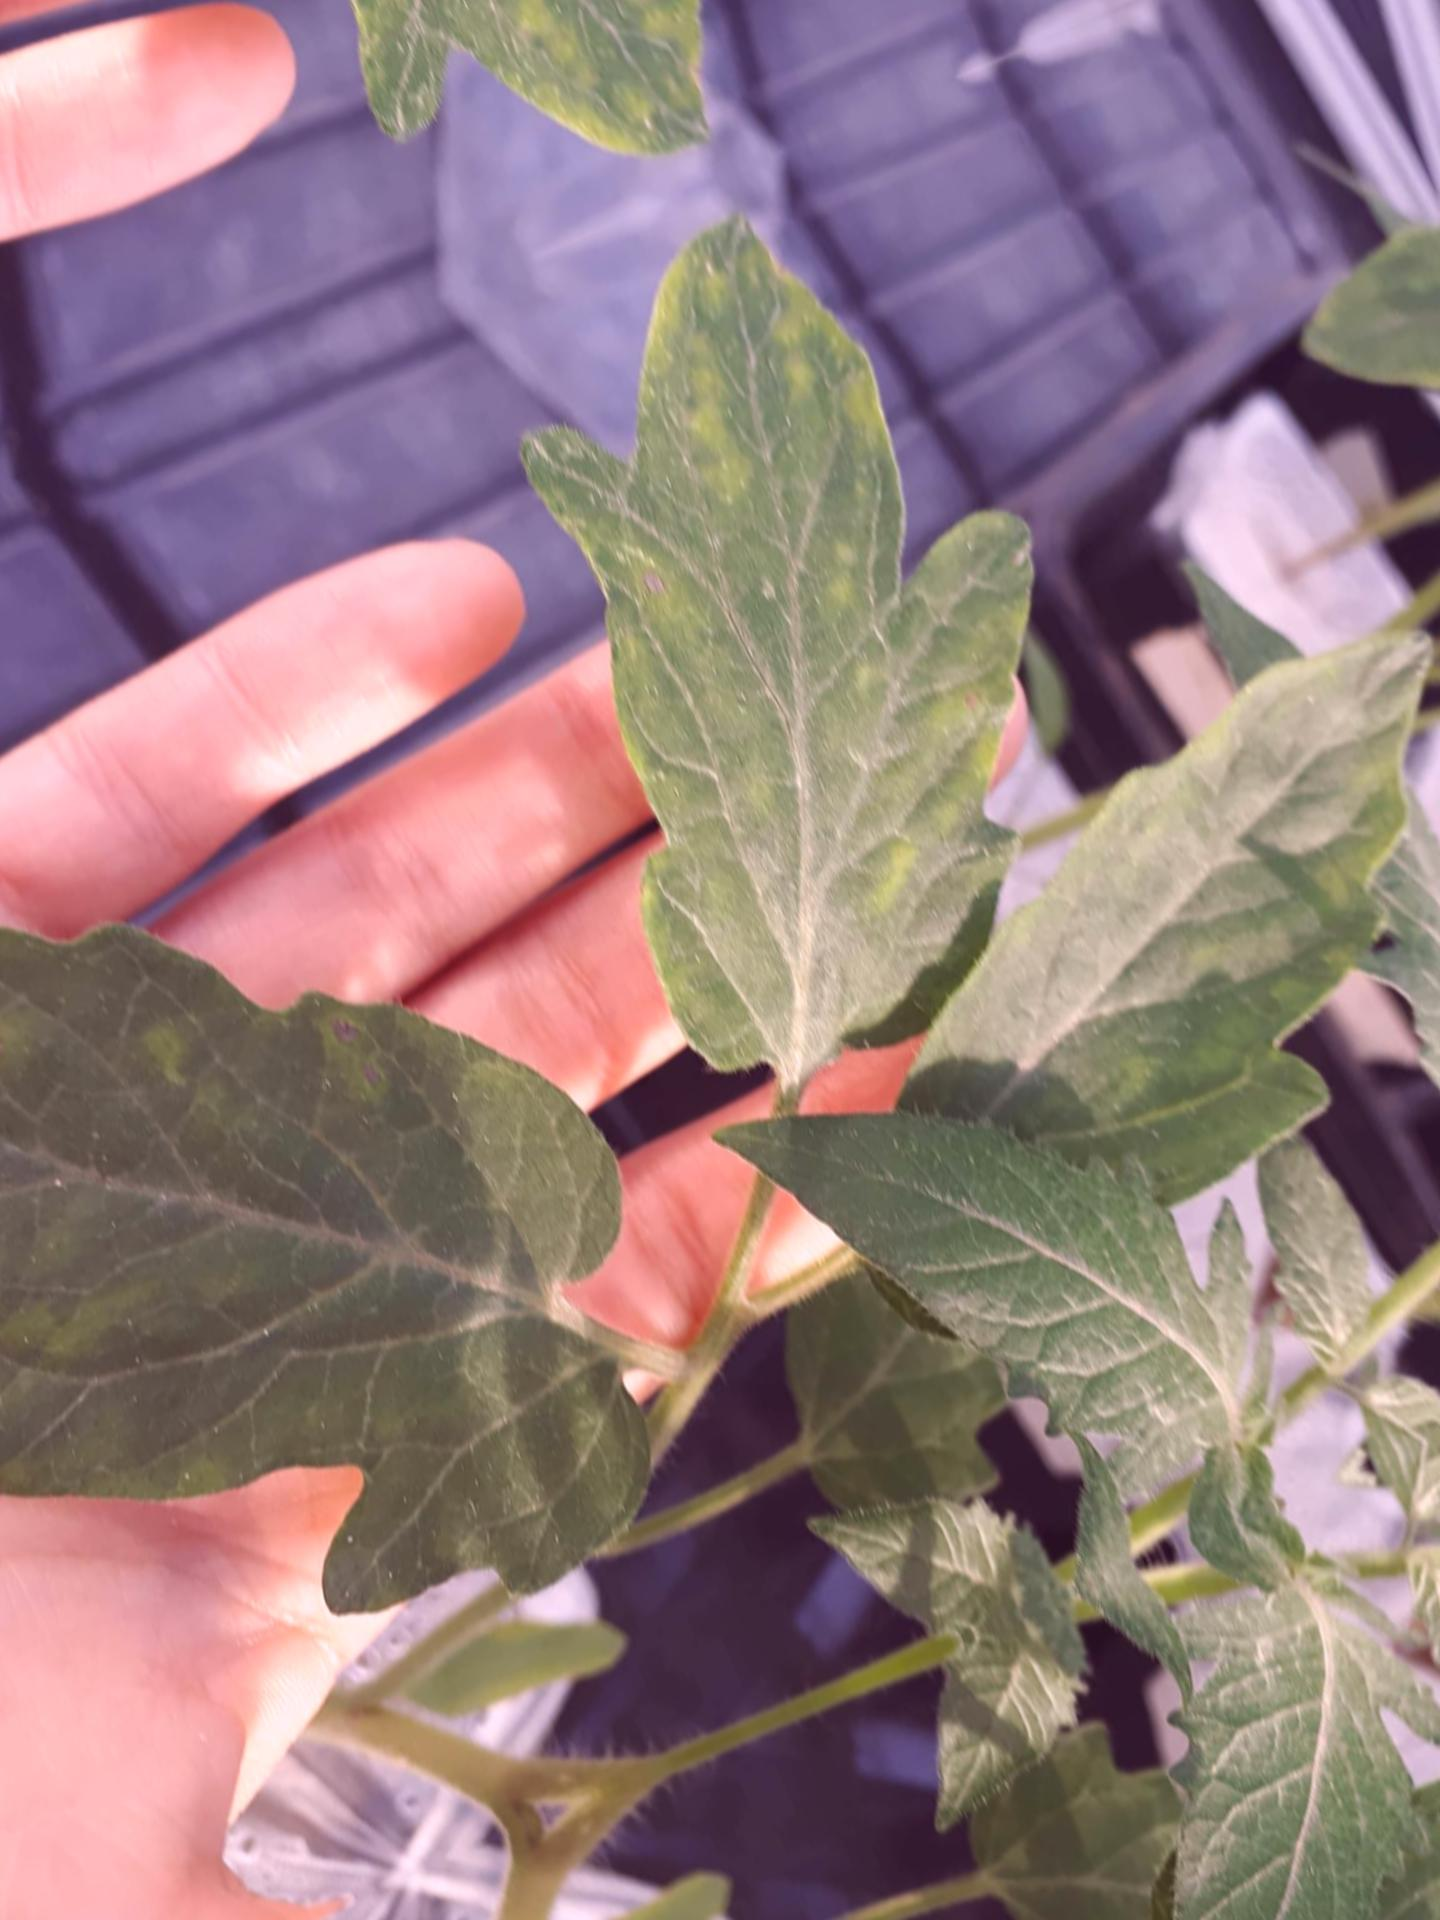Tomato mold leaf: (0, 636, 785, 1810), (402, 112, 1227, 1132), (670, 949, 1325, 1618)
